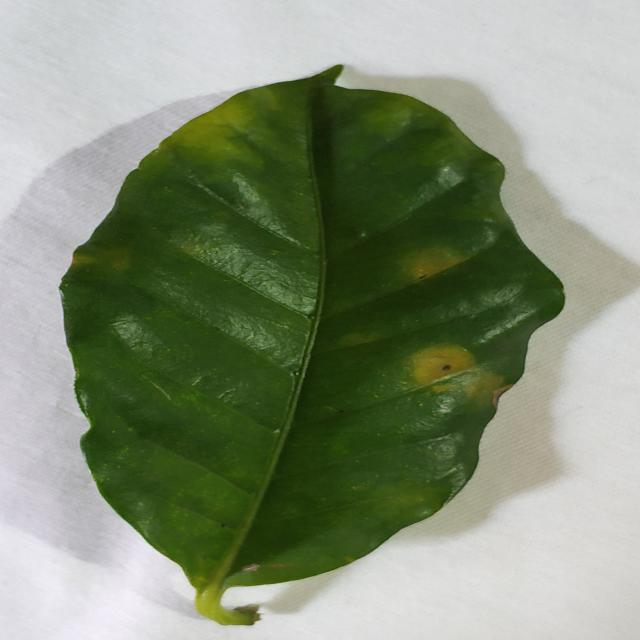Enfermedad-Roya: (58, 64, 566, 627)
